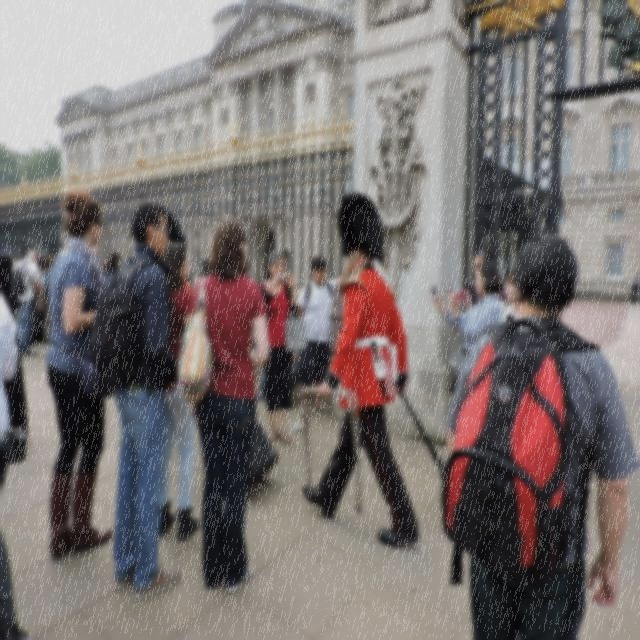pessoa: (441, 230, 632, 640), (298, 188, 422, 550), (88, 198, 184, 605), (175, 216, 273, 596), (43, 187, 114, 561), (0, 248, 35, 640), (157, 242, 201, 543), (432, 259, 505, 394), (296, 255, 351, 418), (258, 250, 300, 444), (464, 248, 518, 324), (10, 250, 46, 358), (36, 254, 56, 356), (162, 205, 188, 252), (102, 251, 121, 292), (90, 244, 110, 274), (629, 272, 640, 304), (242, 253, 255, 280)
